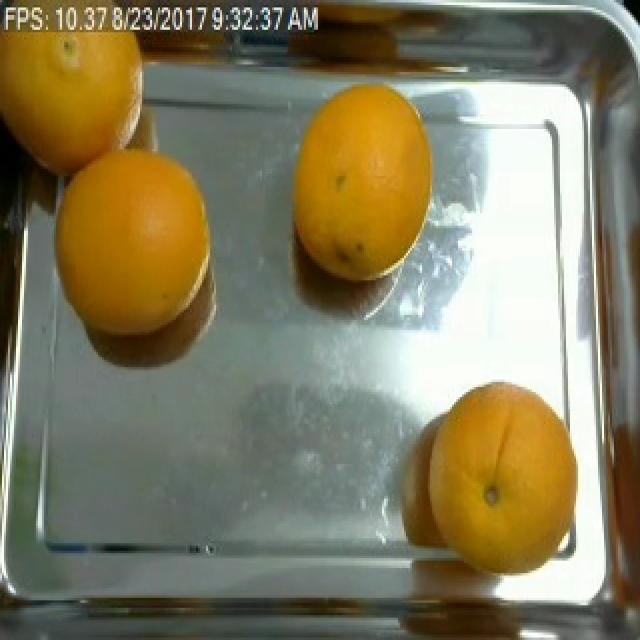Fruit: (272, 70, 446, 286), (0, 5, 152, 203)
